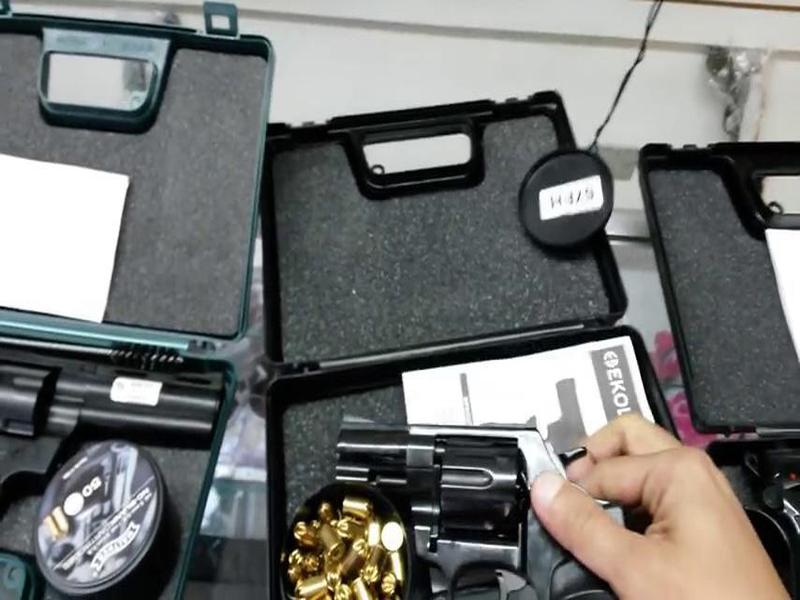Revolver: (311, 384, 617, 600)
